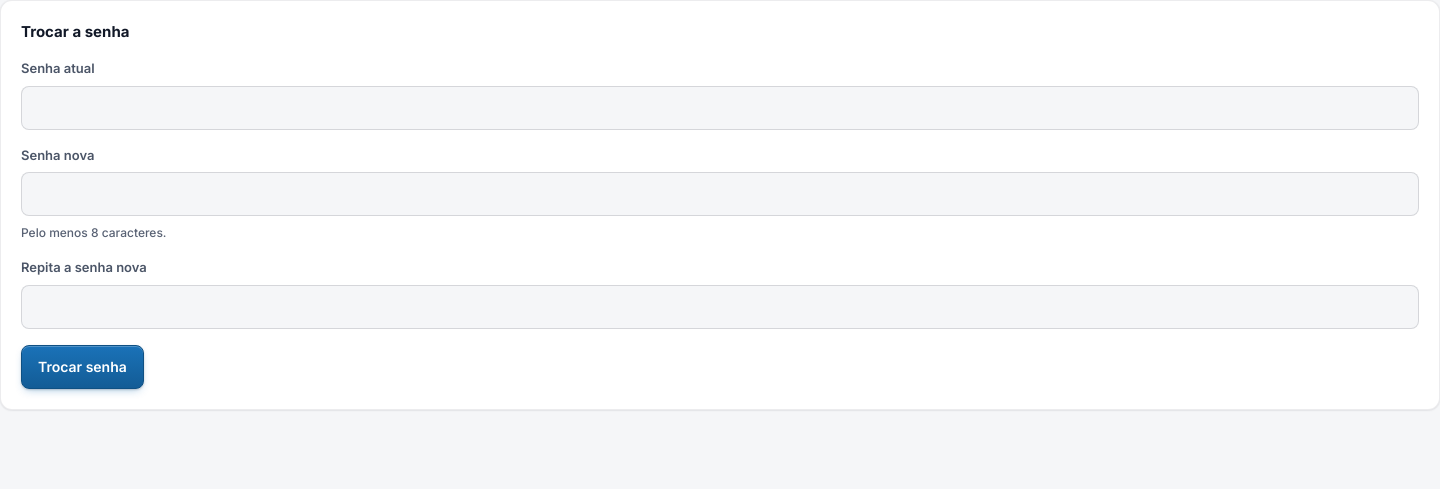
Test: ChangePasswordForm › mostra o erro quando a senha atual está errada
Type "errada" into the password field labelled "Senha atual".
click(720, 108); type("errada")  # box 21,86 -> 1419,130
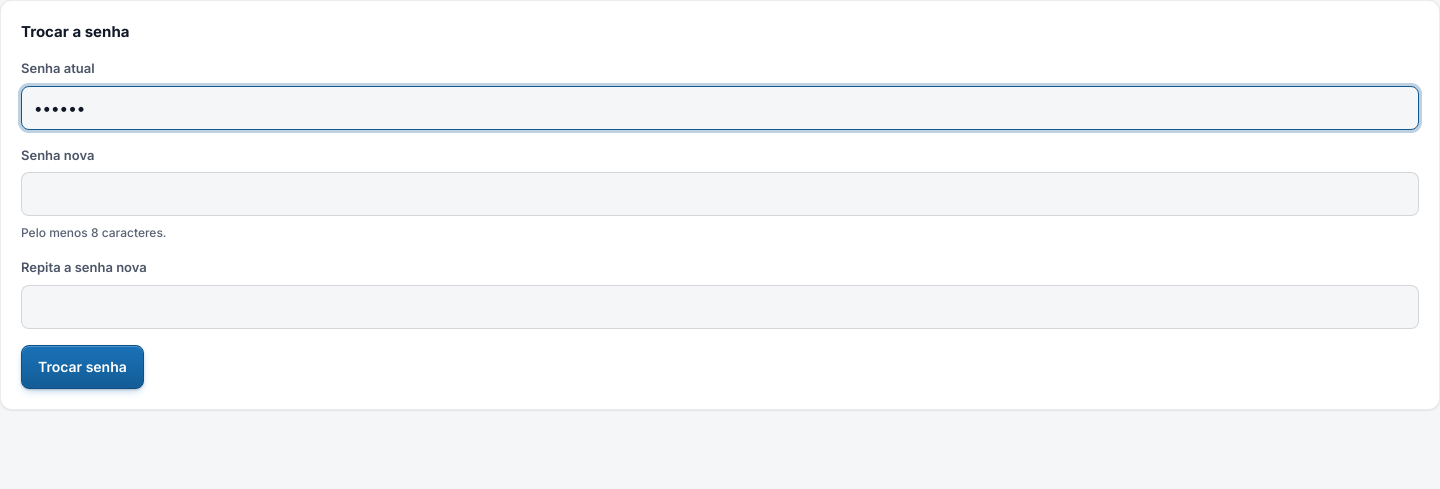
Type "nova-senha-1" into the password field labelled "Senha nova".
click(720, 194); type("nova-senha-1")  # box 21,172 -> 1419,216
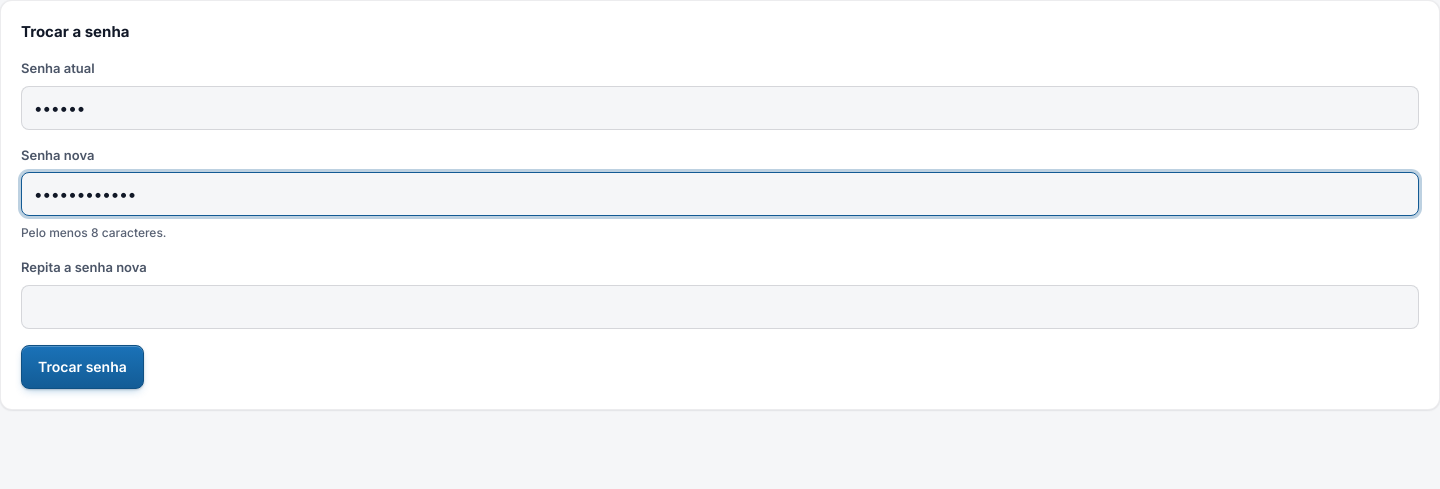
Type "nova-senha-1" into the password field labelled "Repita a senha nova".
click(720, 307); type("nova-senha-1")  # box 21,285 -> 1419,329
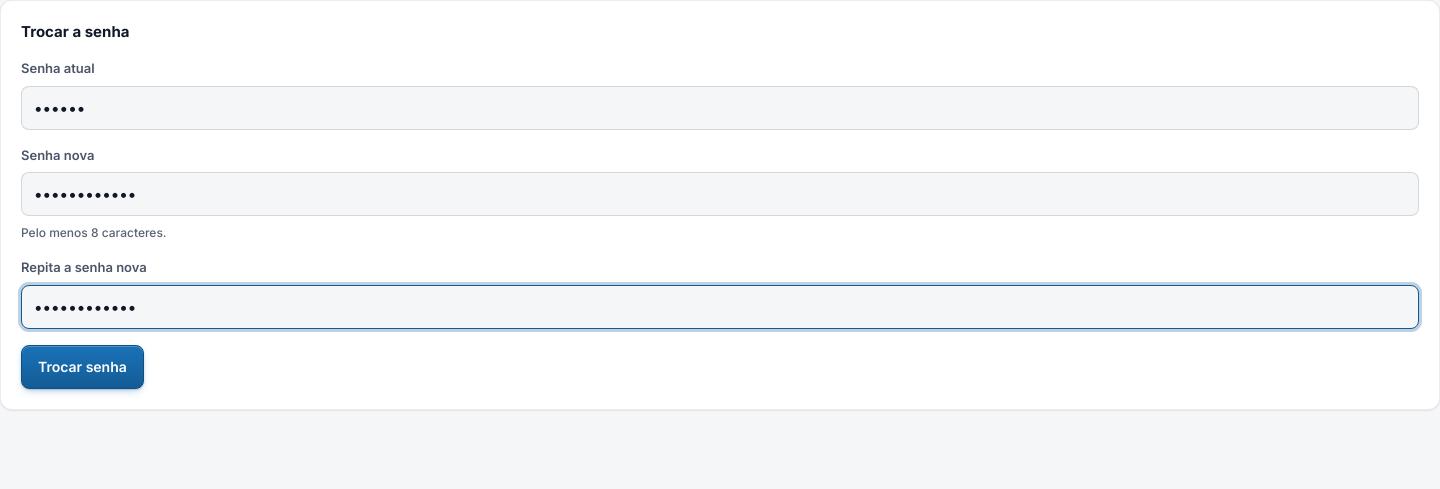
Submit the form named "Trocar senha"
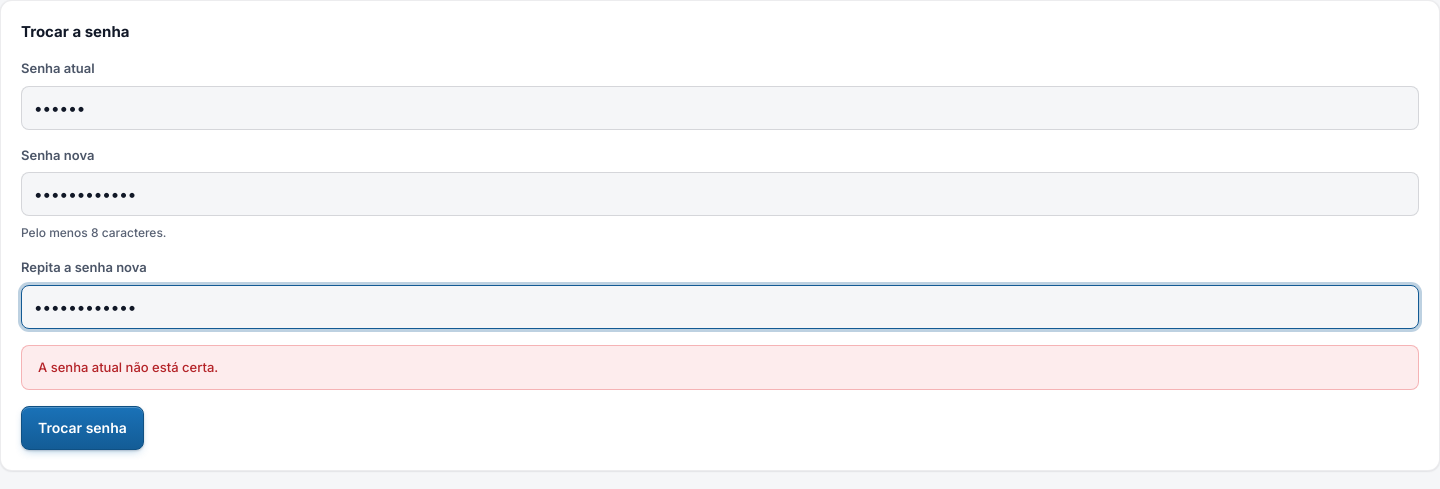
Expected: the message reads "A senha atual não está certa.", 38,359 -> 218,375
